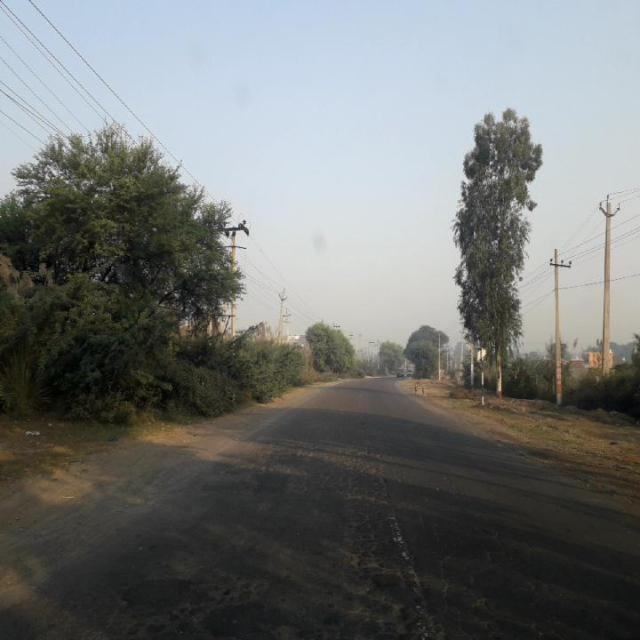D20: (138, 453, 633, 639)
D43: (371, 448, 441, 638)
